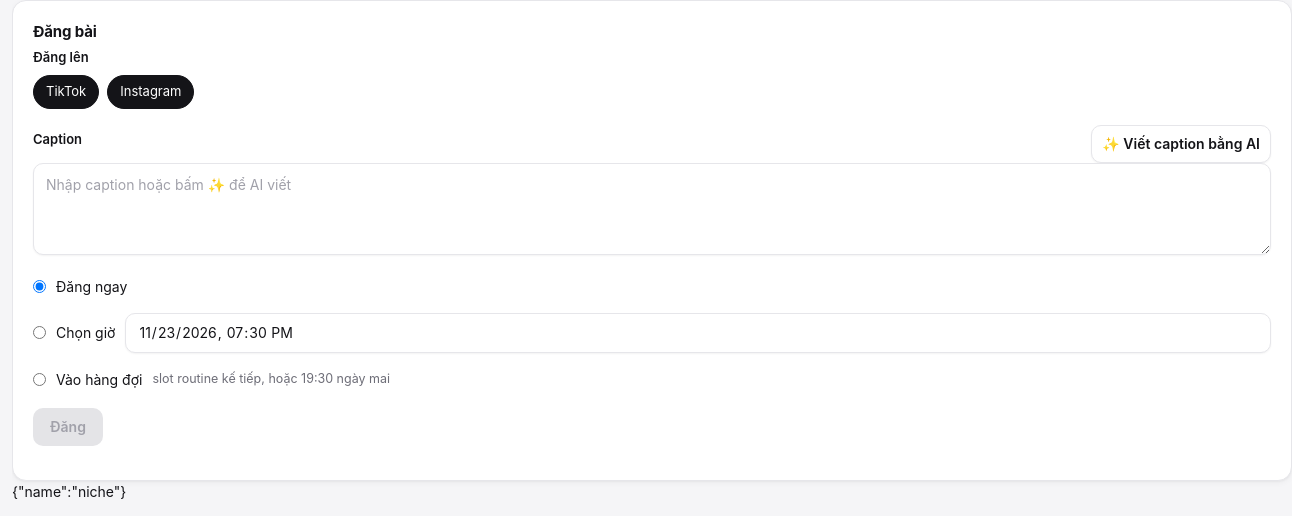
rewrite asks the AI again
Click the button "✨ Viết caption bằng AI" at point(1181, 144), box x1=1091 y1=124 x2=1271 y2=162
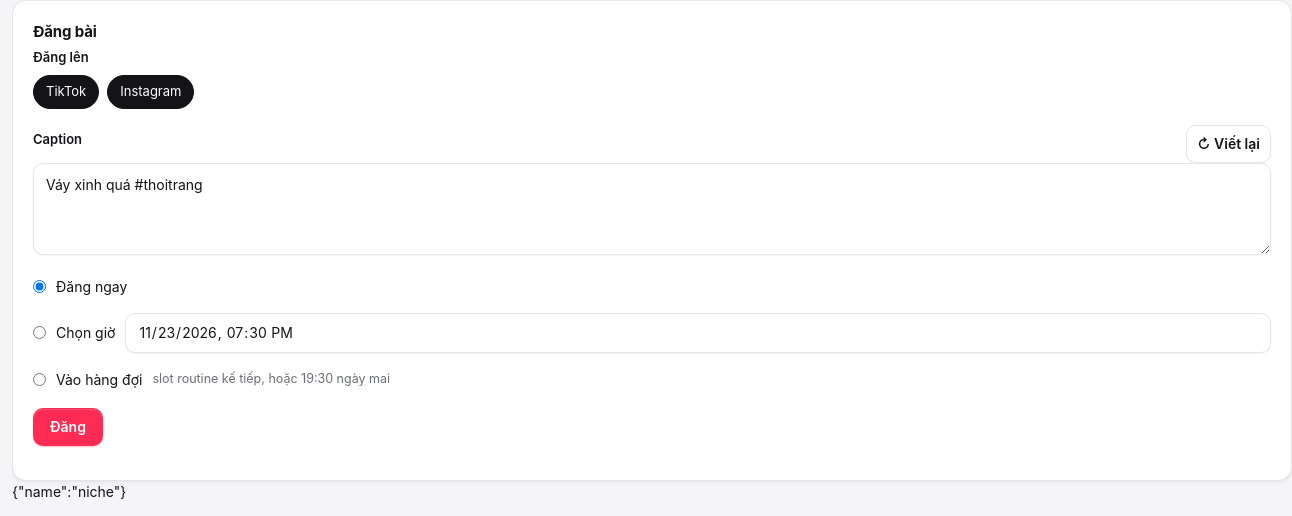
Now the text box showing "Váy xinh quá #thoitrang" is shown, box x1=33 y1=162 x2=1271 y2=254
Click the button "↻ Viết lại" at point(1229, 144), box x1=1186 y1=124 x2=1271 y2=162
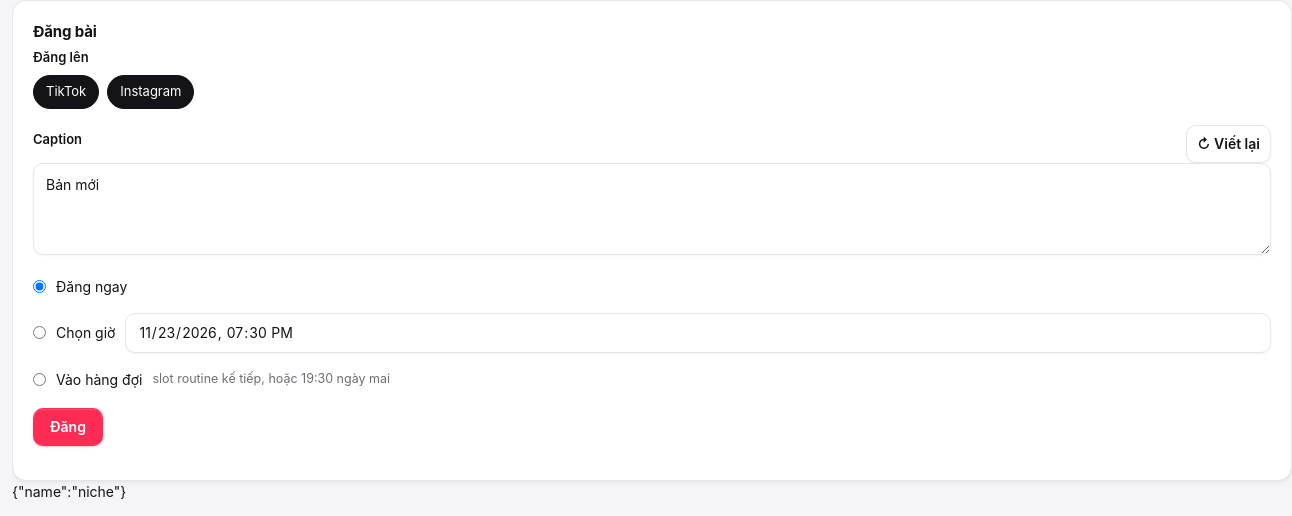
Now the text box showing "Bản mới" is shown, box x1=33 y1=162 x2=1271 y2=254
